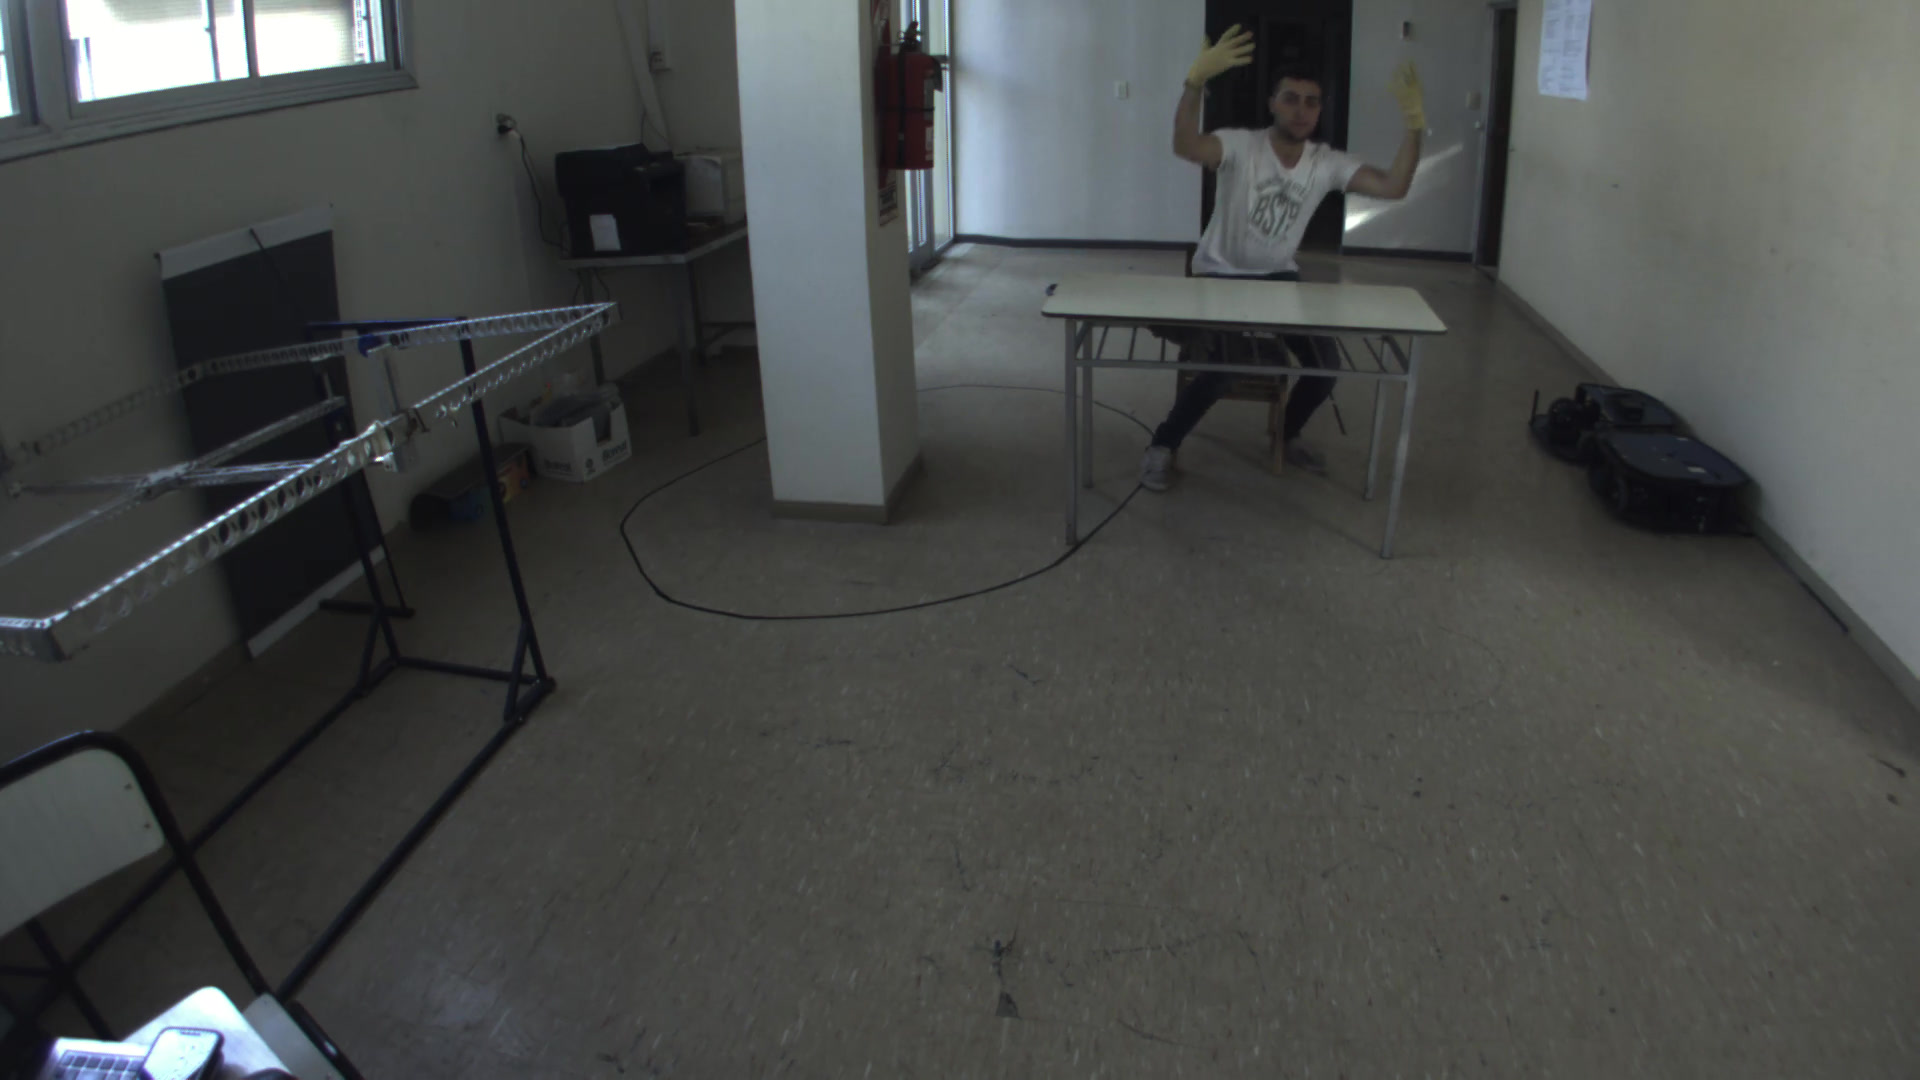hand: (1182, 18, 1269, 100), (1382, 49, 1439, 146)
